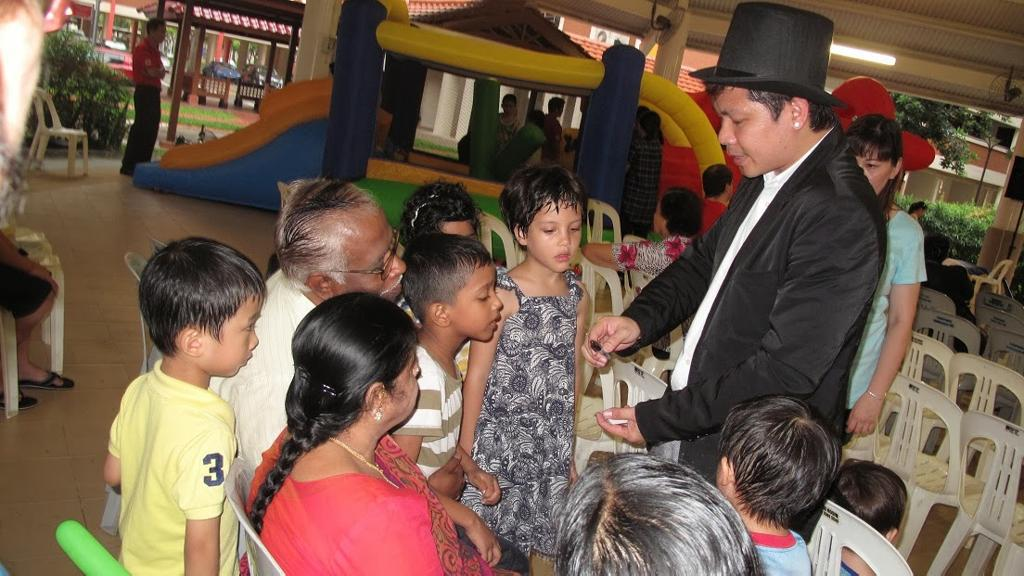face: (335, 209, 408, 302), (717, 89, 790, 177), (205, 286, 263, 379), (368, 338, 419, 423), (450, 266, 503, 342), (527, 204, 584, 272), (845, 139, 890, 201), (437, 219, 481, 274), (155, 25, 166, 43), (505, 100, 516, 114)
